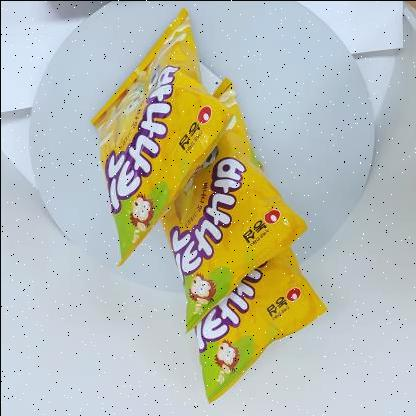Others: (86, 4, 330, 408)
